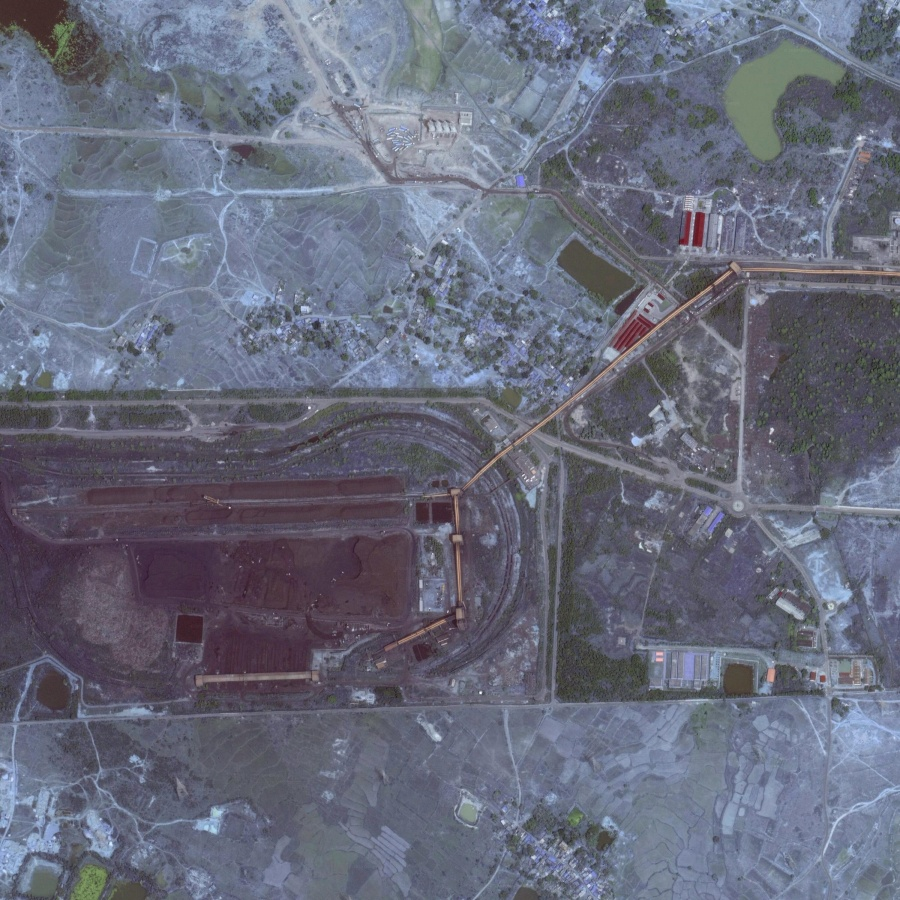PowerPlant: (11, 453, 522, 709)
